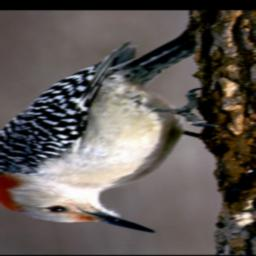Woodpecker: (0, 40, 217, 233)
